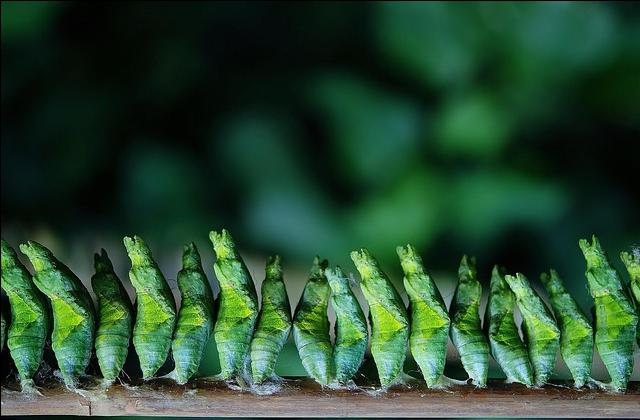Non_Gorille: (0, 77, 617, 418)
